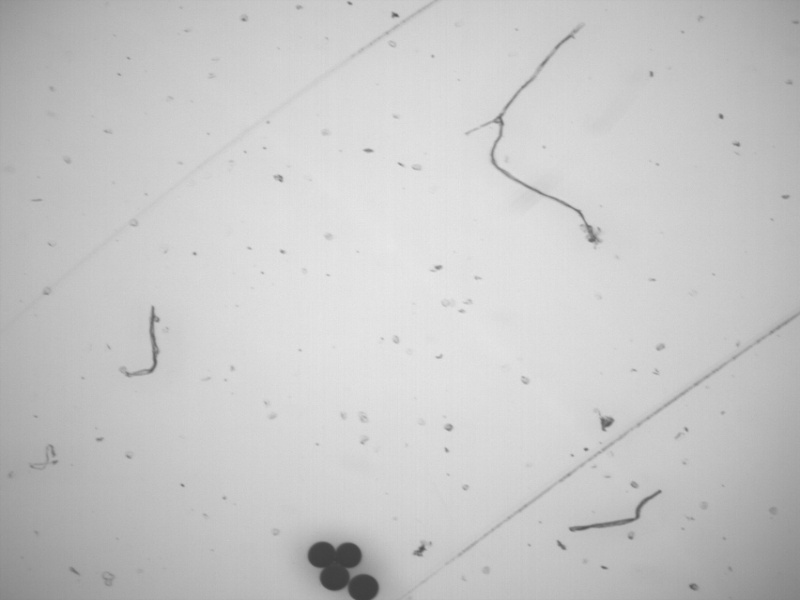bead: (307, 539, 337, 569), (319, 562, 350, 591), (347, 573, 378, 600), (335, 540, 363, 569)
fiber: (460, 20, 604, 246), (567, 488, 664, 534), (115, 303, 165, 378), (28, 443, 60, 474)
